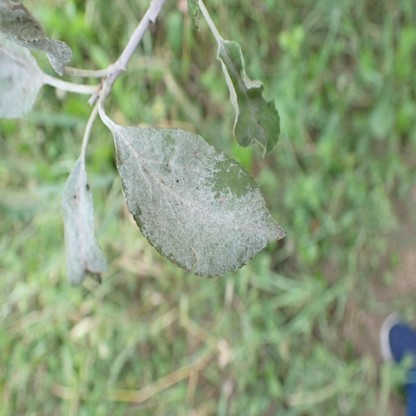powdery_mildew: (116, 125, 291, 281), (0, 1, 71, 120), (218, 35, 284, 156), (62, 156, 107, 283)
